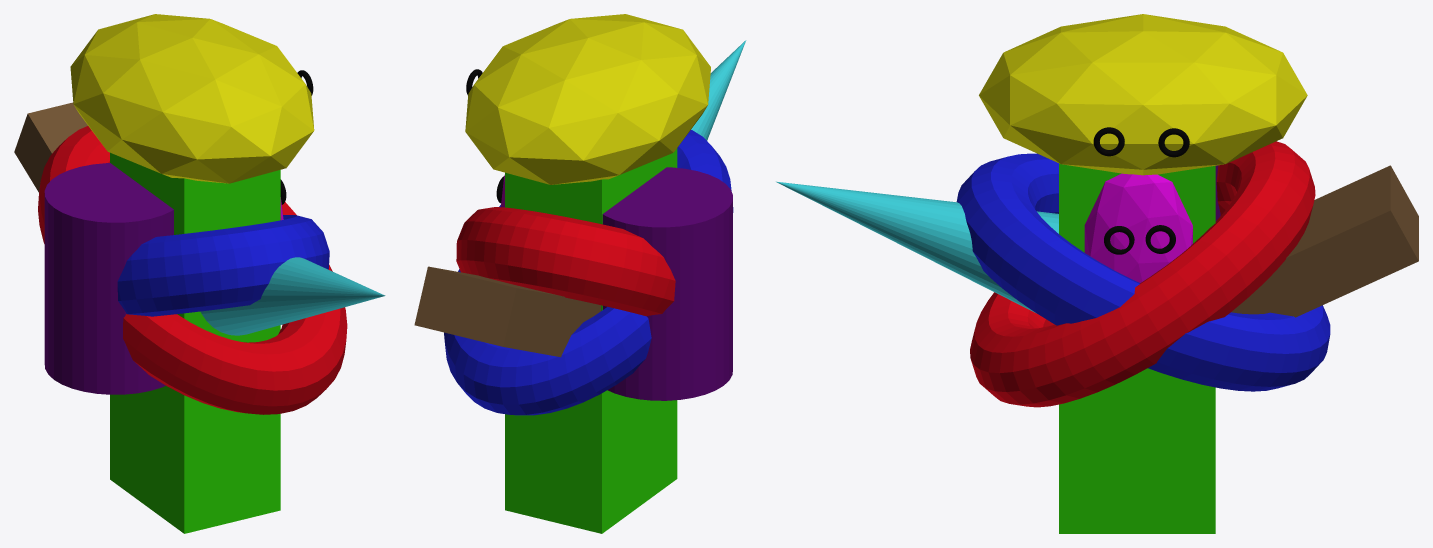
Rendered from monster1.fbx.
3 renders of one model, left to right at view 1: azimuth 30°, elevation 25°; view 2: azimuth 150°, elevation 25°; view 3: azimuth 270°, elevation 25°, orthographic. The views are drawn at different scales.
Parts seen in each view (by area): view 1: Icosphere, Cube, Cylinder, Torus, Torus.001, Cone, Cube.001; view 2: Icosphere, Cube, Cylinder, Torus, Torus.001, Cube.001, Cone; view 3: Icosphere, Torus, Cube, Torus.001, Cube.001, Cone, Icosphere.001.
Boxes of the visible parts, x1=… form: Icosphere: x1=70, y1=14, x2=314, y2=183; Cube: x1=110, y1=152, x2=280, y2=533; Cylinder: x1=44, y1=163, x2=173, y2=394; Torus: x1=38, y1=126, x2=347, y2=414; Torus.001: x1=117, y1=215, x2=329, y2=316; Cone: x1=200, y1=257, x2=385, y2=335; Cube.001: x1=14, y1=102, x2=87, y2=192; Icosphere: x1=465, y1=14, x2=710, y2=184; Cube: x1=505, y1=148, x2=677, y2=533; Cylinder: x1=602, y1=167, x2=732, y2=400; Torus: x1=456, y1=207, x2=675, y2=316; Torus.001: x1=444, y1=130, x2=733, y2=415; Cube.001: x1=414, y1=266, x2=600, y2=357; Cone: x1=691, y1=40, x2=746, y2=140; Icosphere: x1=979, y1=14, x2=1307, y2=175; Torus: x1=970, y1=141, x2=1315, y2=407; Cube: x1=1059, y1=163, x2=1215, y2=533; Torus.001: x1=956, y1=153, x2=1330, y2=391; Cube.001: x1=1231, y1=165, x2=1418, y2=317; Cone: x1=776, y1=181, x2=1058, y2=313; Icosphere.001: x1=1084, y1=173, x2=1192, y2=282.
Bounding box in the file's own units: 1.6 × 2.73 × 3.34.
